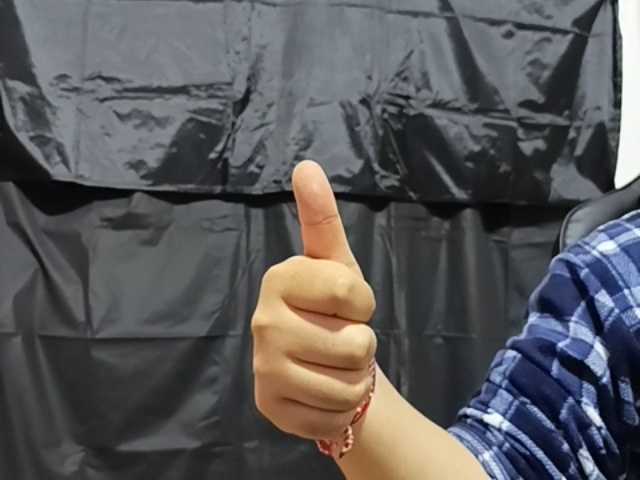A: (232, 158, 387, 445)
